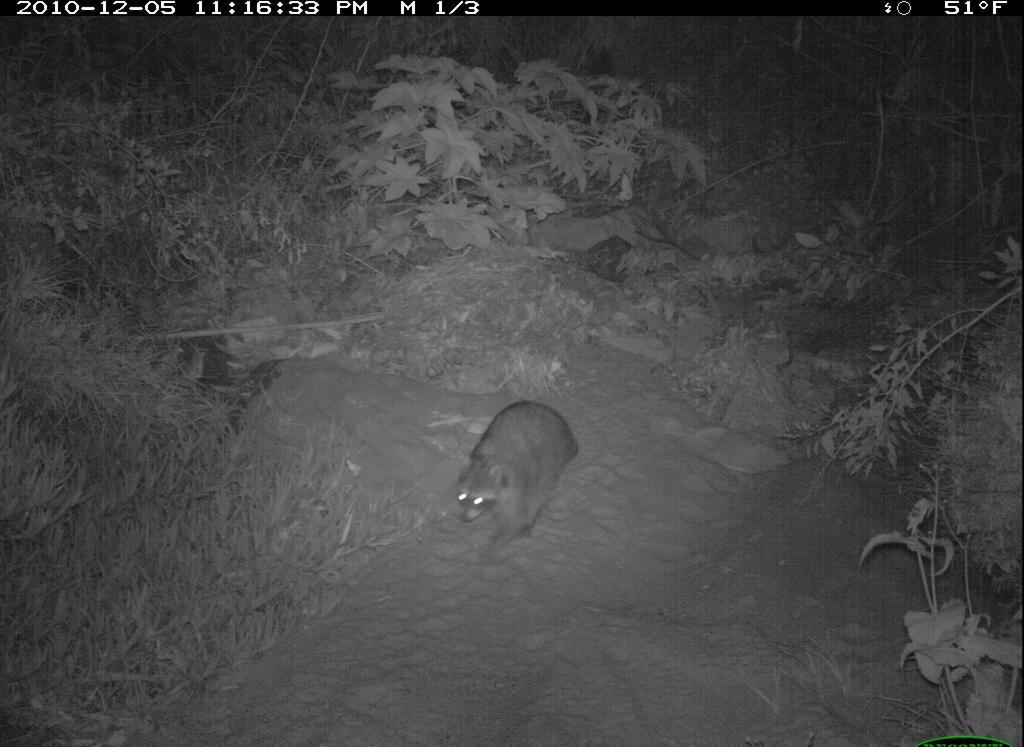raccoon: (446, 390, 587, 571)
